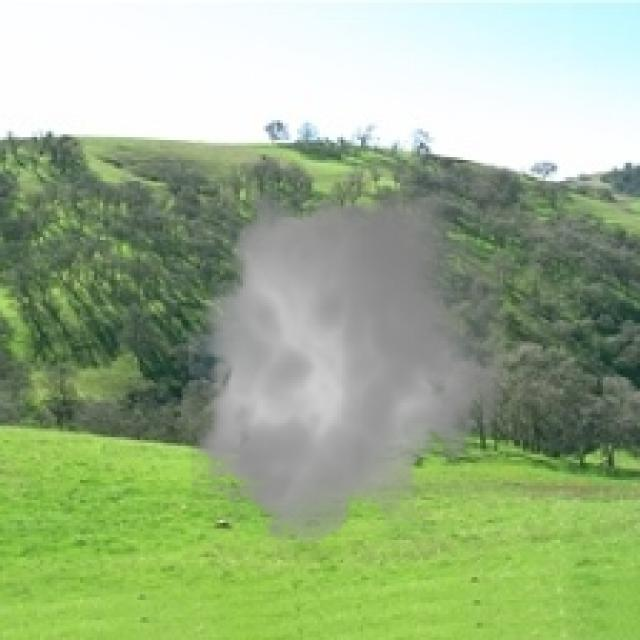smoke: (174, 174, 520, 560)
